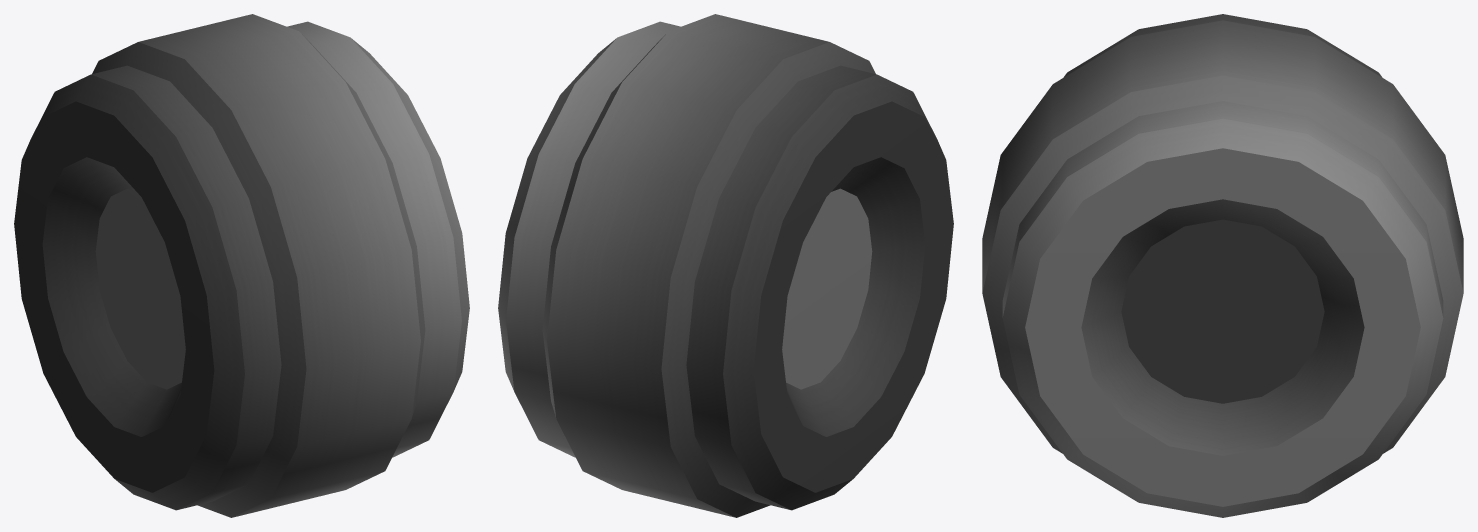
Rendered from Wheel_003_L.fbx.
The picture shows the model from 3 angles, left to right: view 1: azimuth 30°, elevation 25°; view 2: azimuth 150°, elevation 25°; view 3: azimuth 270°, elevation 25°; orthographic projection.
Visible parts, largest first — view 1: Wheel_003_L; view 2: Wheel_003_L; view 3: Wheel_003_L.
Part boxes in pixels (x1,y1,x2,y2): Wheel_003_L: [14, 14, 469, 517]; Wheel_003_L: [498, 14, 953, 517]; Wheel_003_L: [982, 14, 1463, 517].
Size of the model in its own units: 52.04 by 85.9 by 85.9.
